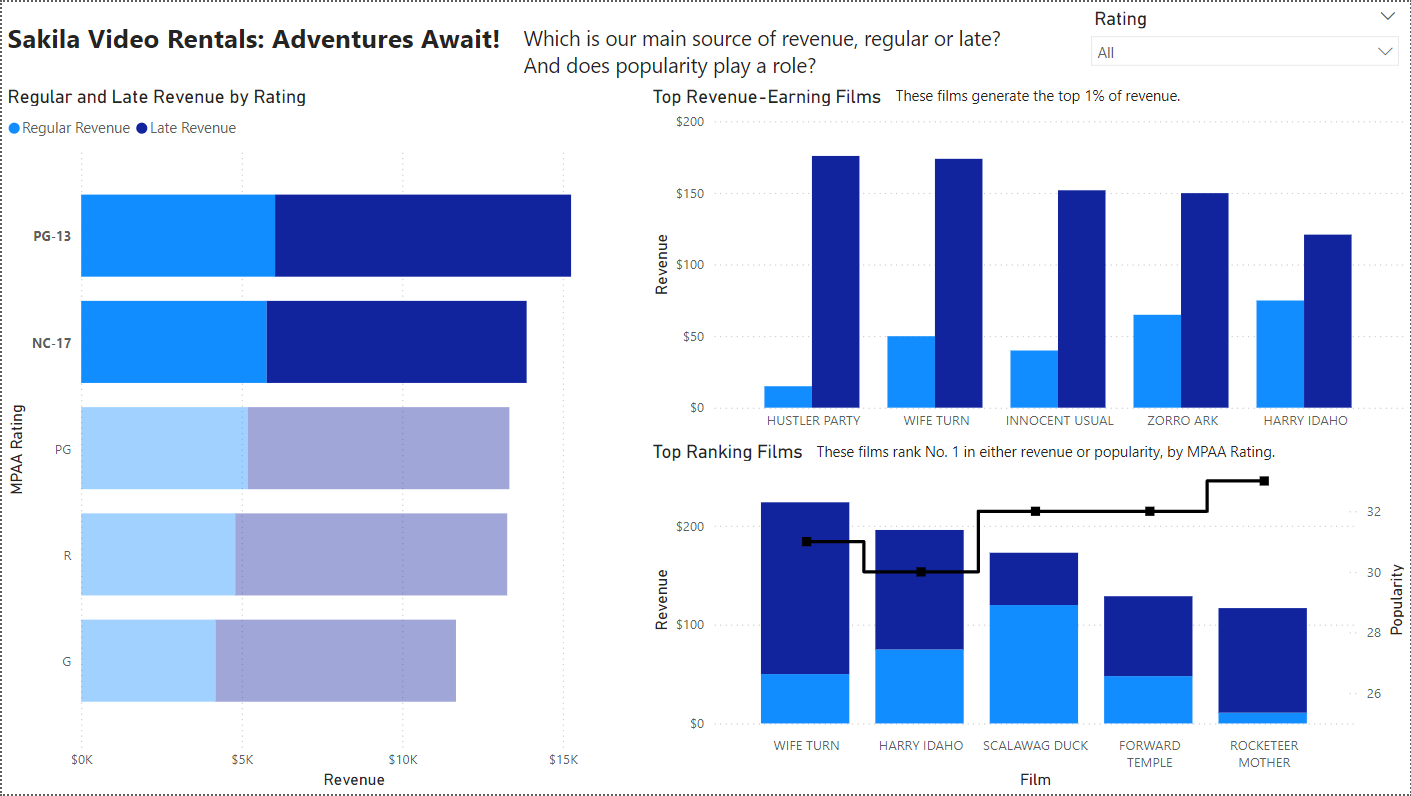

This screenshot's page, from the dashboard's own definition file:
{"tool":"powerbi","page":{"name":"Revenue Popularity Dashboard","canvas":[1280,720],"ordinal":0},"visuals":[{"type":"barChart","title":"Regular and Late Revenue by Rating","fields":{"Category":["revenue_volume_all.rating"],"Y":["Sum(revenue_volume_all.regular_revenue)","Sum(revenue_volume_all.late_revenue)"]},"box":[0,75.7,587.1,644.3],"z":0},{"type":"clusteredColumnChart","title":"Top Revenue-Earning Films","fields":{"Y":["Sum(revenue_volume_all.regular_revenue)","Sum(revenue_volume_all.late_revenue)"],"Category":["regular_late_revenues.title"]},"box":[586.7,75,693.3,323.3],"z":1000},{"type":"lineStackedColumnComboChart","title":"Top Ranking Films","fields":{"Category":["rating_rev_vol_ranks.title"],"Y2":["Sum(revenue_volume_all.rental_volume)"],"Y":["Sum(revenue_volume_all.regular_revenue)","Sum(revenue_volume_all.late_revenue)"]},"box":[586.7,398.3,693.3,321.7],"z":2000},{"type":"slicer","fields":{"Values":["revenue_volume_all.rating"]},"box":[980,0,300,75.6],"z":3000},{"type":"textbox","box":[0,11.2,472.7,52.2],"z":4000},{"type":"textbox","box":[469,14.9,464,61],"z":5000},{"type":"textbox","box":[807,71,350,33],"z":6000},{"type":"textbox","box":[735.7,394.3,460,32.9],"z":7000}]}

Visuals, with their boxes in screenshot pixels (x1, y1, x2, y2), scaled from the page's 1280x720 canvas onto the 1411x796 screenshot:
"Regular and Late Revenue by Rating" barChart: l=0, t=84, r=647, b=795
"Top Revenue-Earning Films" clusteredColumnChart: l=647, t=83, r=1410, b=440
"Top Ranking Films" lineStackedColumnComboChart: l=647, t=440, r=1410, b=795
slicer - revenue_volume_all.rating: l=1080, t=0, r=1410, b=84
textbox: l=0, t=12, r=521, b=70
textbox: l=517, t=16, r=1028, b=84
textbox: l=890, t=78, r=1275, b=115
textbox: l=811, t=436, r=1318, b=472
